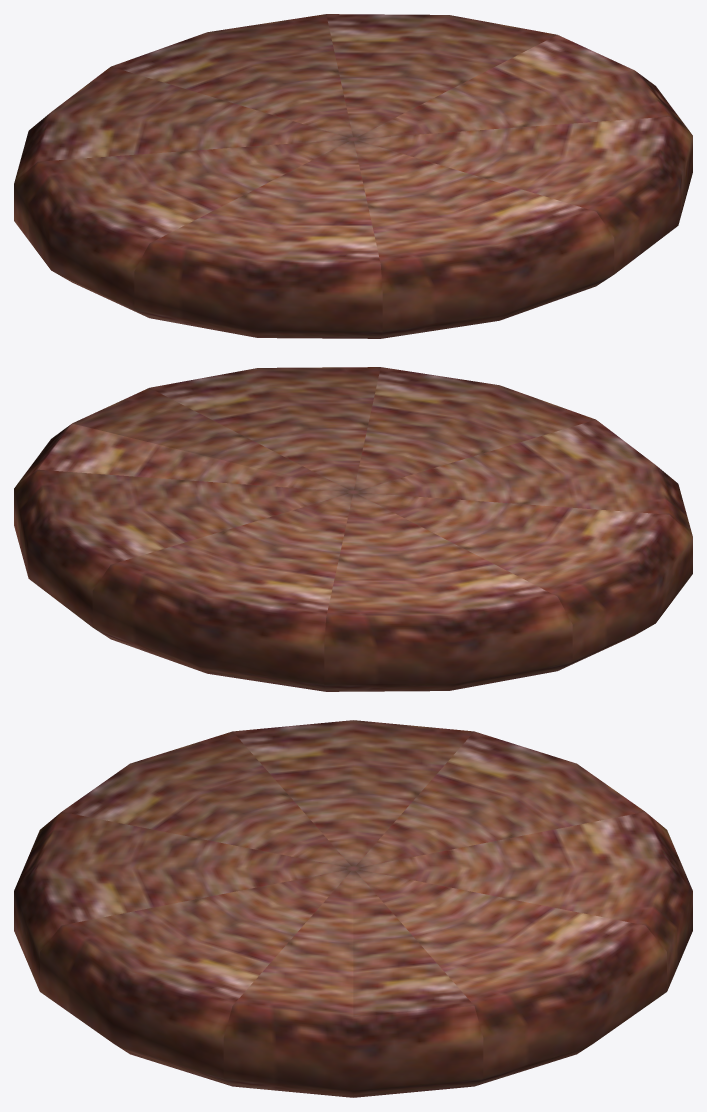
Rendered from patty.obj.
3 views of the same model, one above another, from view 1: azimuth 30°, elevation 25°; view 2: azimuth 150°, elevation 25°; view 3: azimuth 270°, elevation 25° (orthographic). The views are drawn at different scales.
Visible parts, largest first — view 1: hamburger:mesh0029; view 2: hamburger:mesh0029; view 3: hamburger:mesh0029.
Boxes of the visible parts, bbox=[...] form: hamburger:mesh0029: bbox=[14, 14, 692, 338]; hamburger:mesh0029: bbox=[14, 367, 692, 691]; hamburger:mesh0029: bbox=[14, 720, 692, 1097].
Bounding box in the file's own units: 6.19 × 0.73 × 5.57.
1 material, 1 textured.
